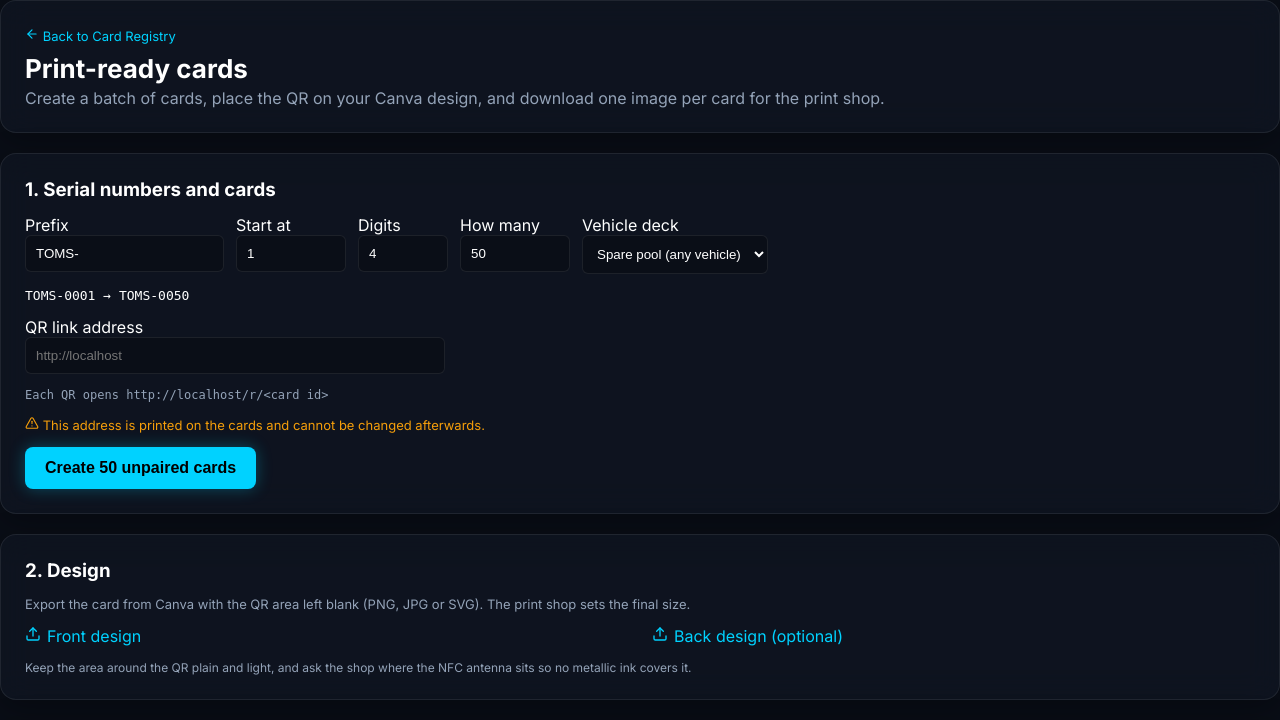
CardDesigner snapping while dragging › shows an alert and disables download buttons when an invalid QR address is entered
Type "http://insecure.example.com" into the field labelled "QR link address" at (235, 356), box [25,337,445,374]
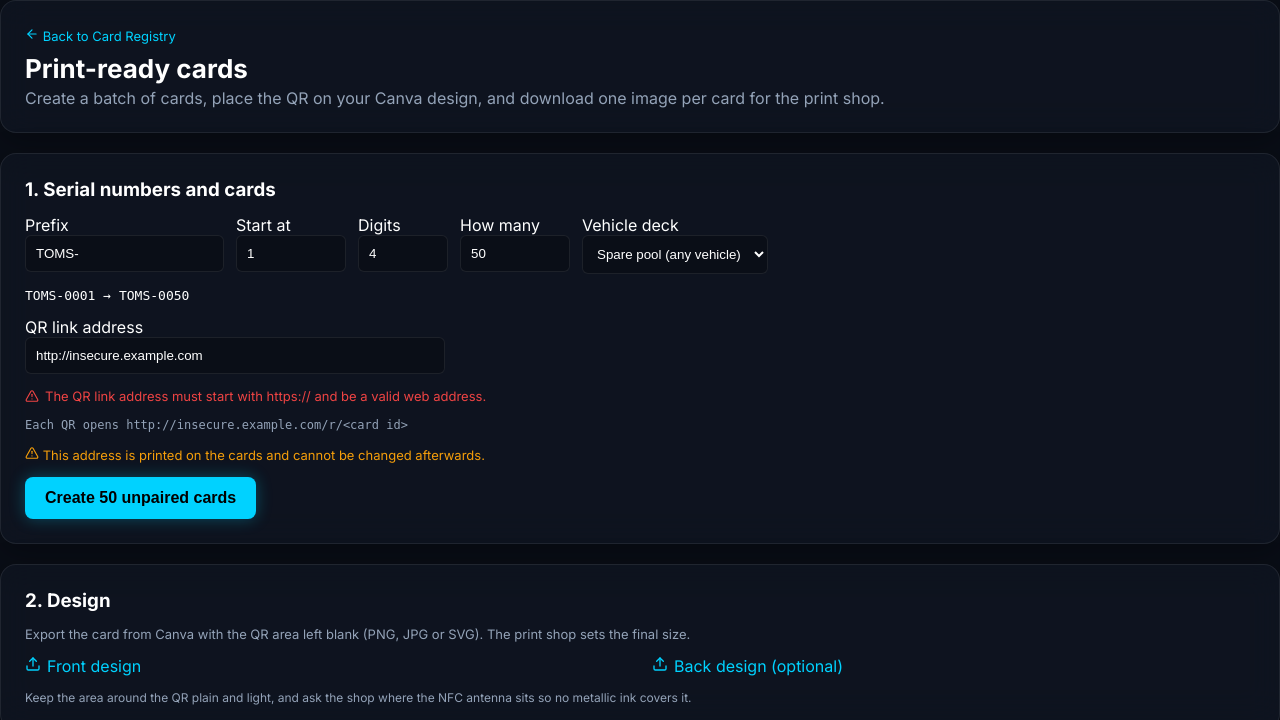
Check: the text "The QR link address must start with https:// and be a valid web address." is shown, box [25,388,486,404]
Replace the text in the field labelled "QR link address" with "https://secure.example.com" at (235, 356), box [25,337,445,374]
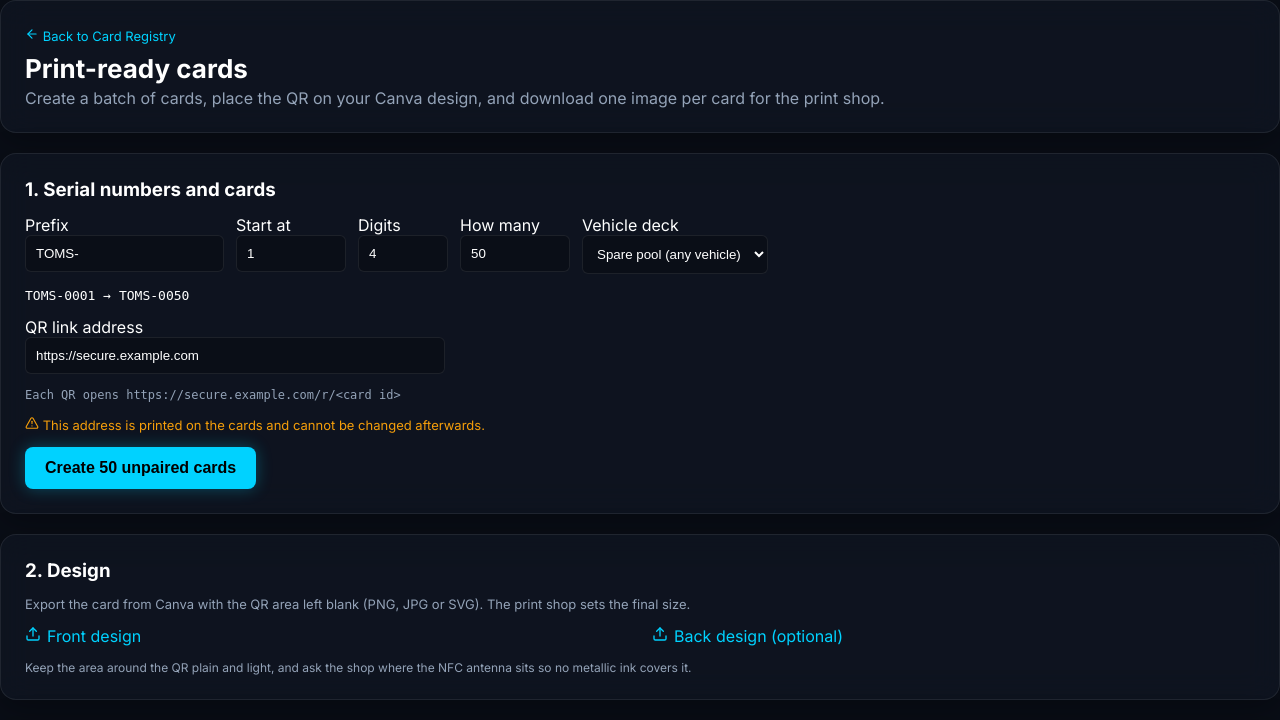
Check: the text "The QR link address must start with https://" is gone
